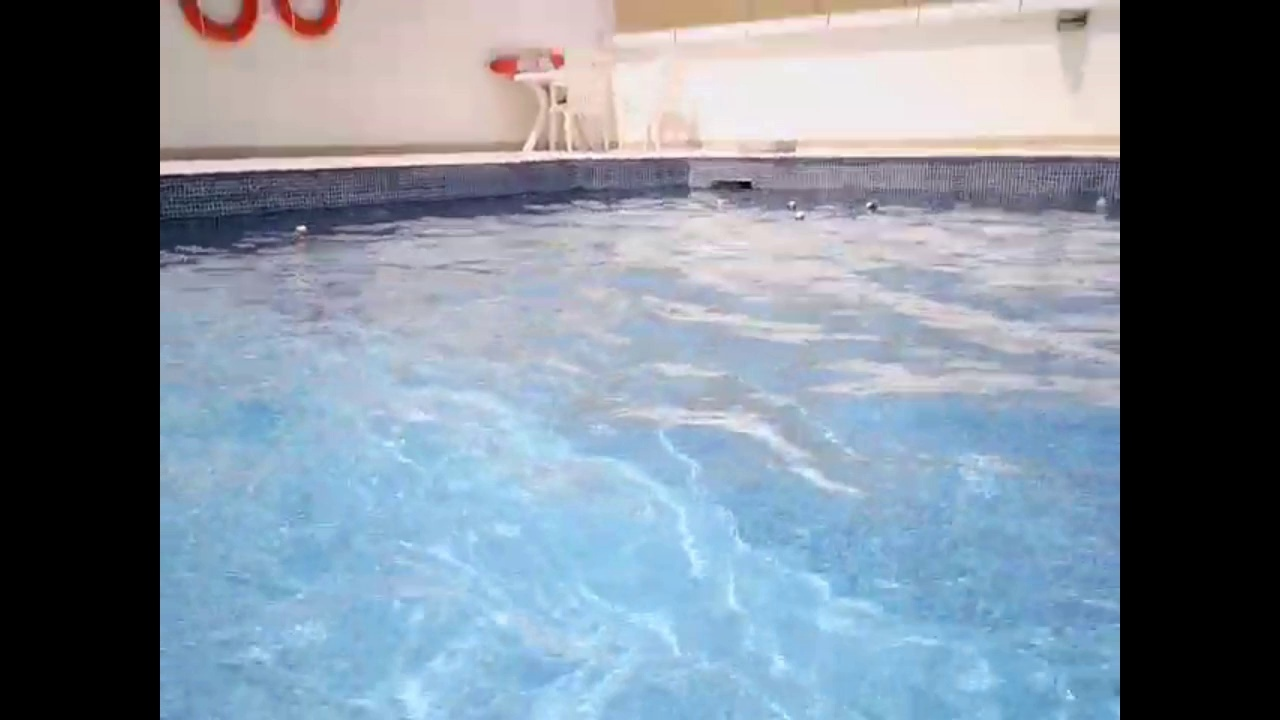debris: (290, 221, 311, 238), (862, 198, 880, 216), (783, 196, 802, 213), (790, 207, 807, 225)
